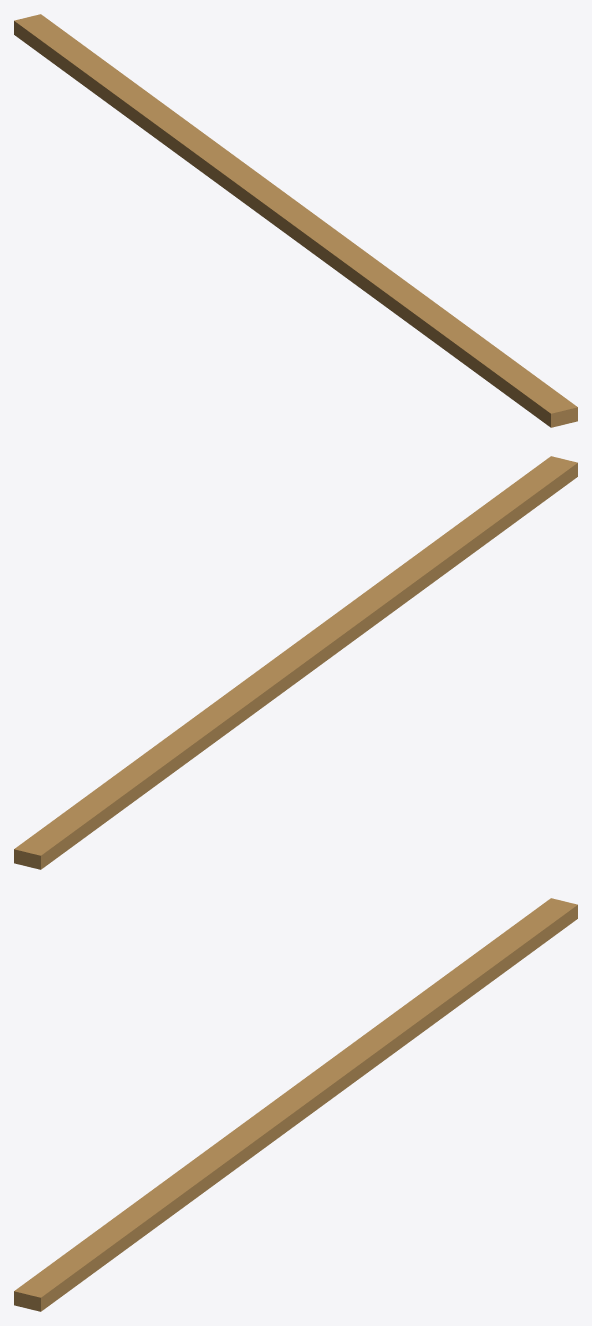
3 views of the same model, one above another, from view 1: azimuth 30°, elevation 25°; view 2: azimuth 150°, elevation 25°; view 3: azimuth 330°, elevation 25° (orthographic).
Parts seen in each view (by area): view 1: RUN-037-S00-bottom_plate; view 2: RUN-037-S00-bottom_plate; view 3: RUN-037-S00-bottom_plate.
Boxes of the visible parts, x1,y1,x2,y2 form: RUN-037-S00-bottom_plate: (14, 14, 577, 427); RUN-037-S00-bottom_plate: (14, 456, 577, 869); RUN-037-S00-bottom_plate: (14, 898, 577, 1311).
Bounding box in the file's own units: 0.09 × 0.045 × 3.11.
